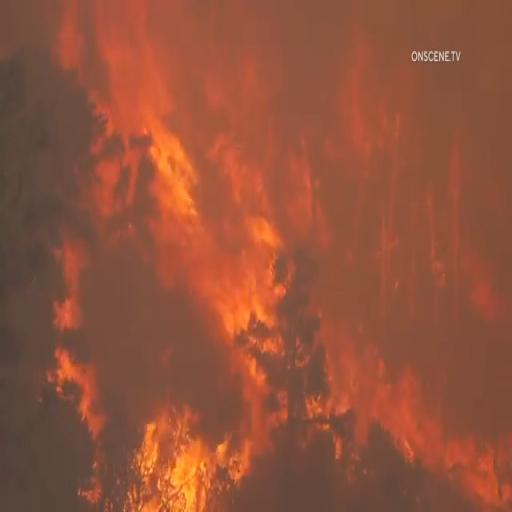fire: (223, 207, 323, 427), (92, 380, 218, 507), (108, 112, 187, 249)
